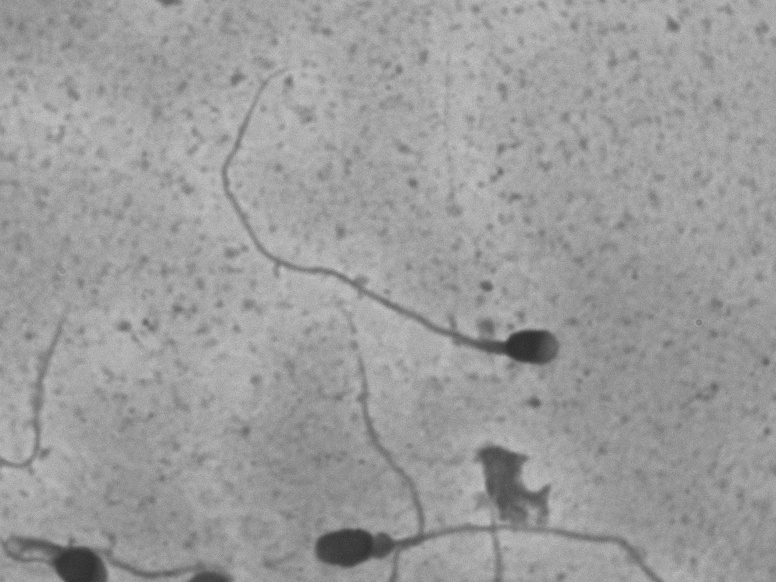Abnormal: (279, 464, 668, 576)
Normal: (176, 60, 607, 382)
